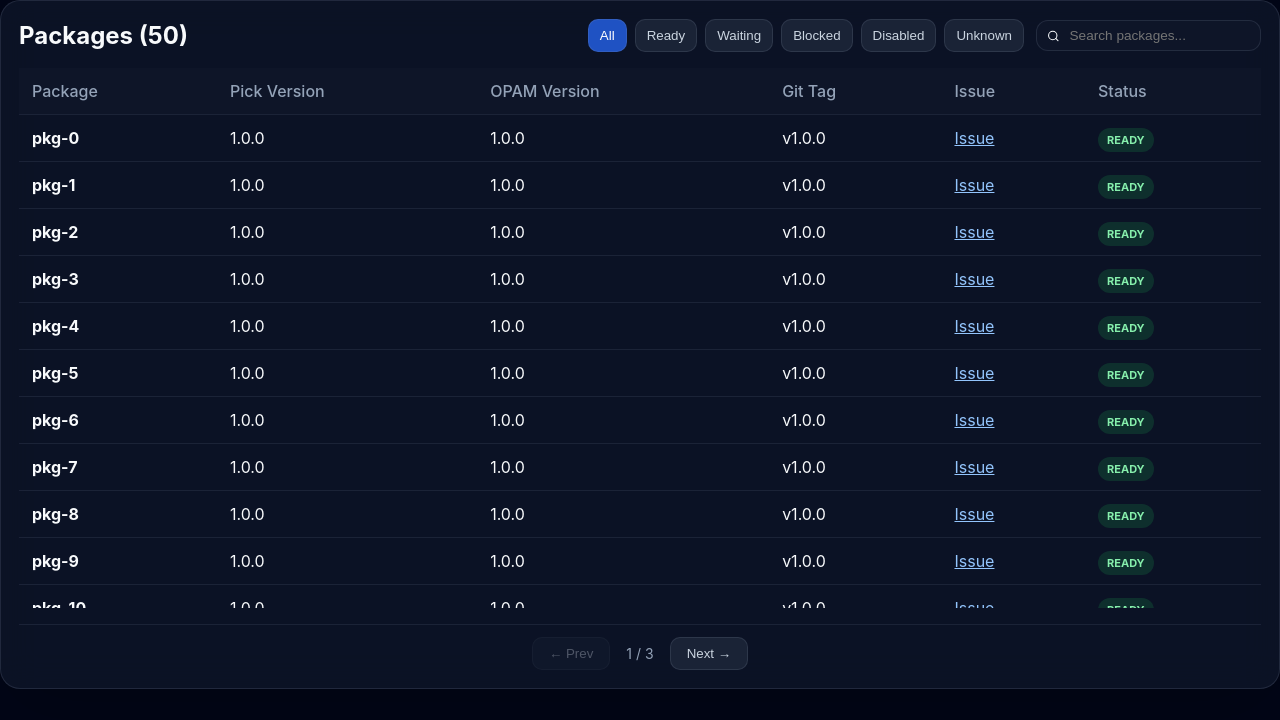
it: PackageTable › Filtering by status › should reset to page 0 when changing filter
This screenshot has width=1280, height=720.
Note: Go to page 2
Click the button "Next →" at (709,654), box [670, 637, 748, 670]
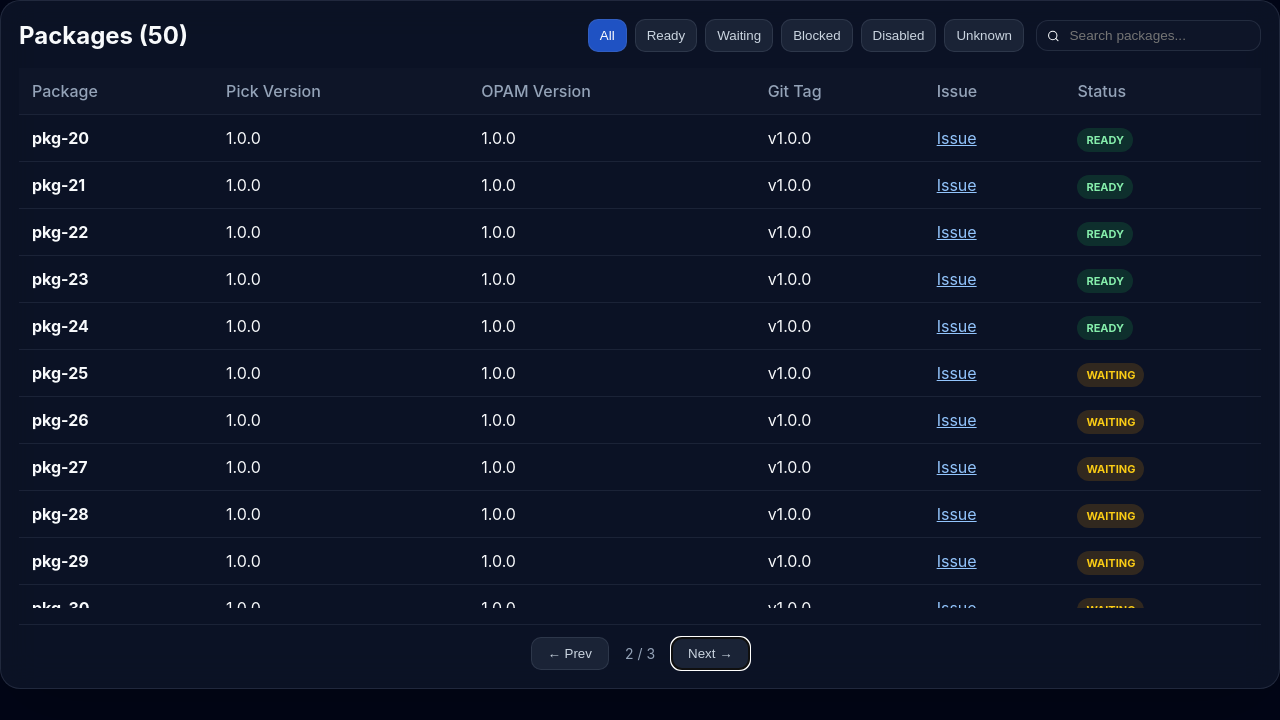
Expected: the text "2 / 3" is shown, [625, 645, 655, 662]
Note: Change filter should reset to page 1
Click the button "Waiting" at (739,36), box [705, 19, 773, 52]
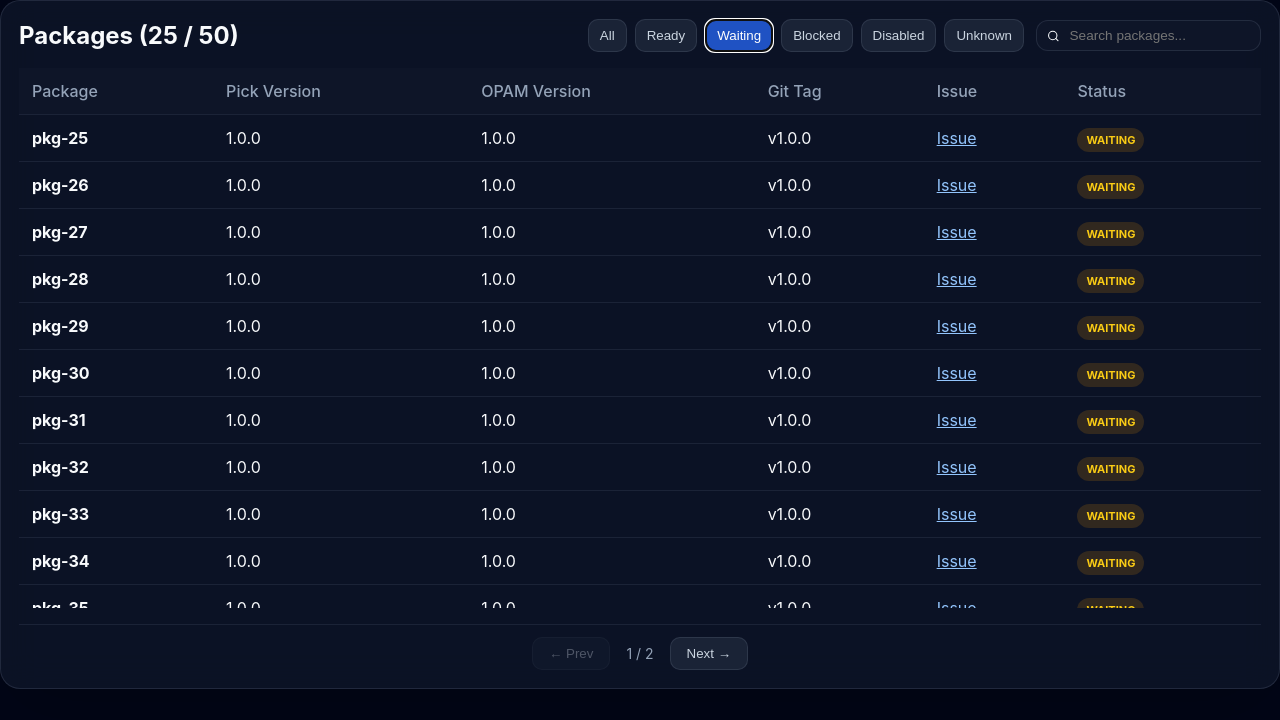
Expected: the text "1 / 2" is shown, [626, 645, 654, 662]
